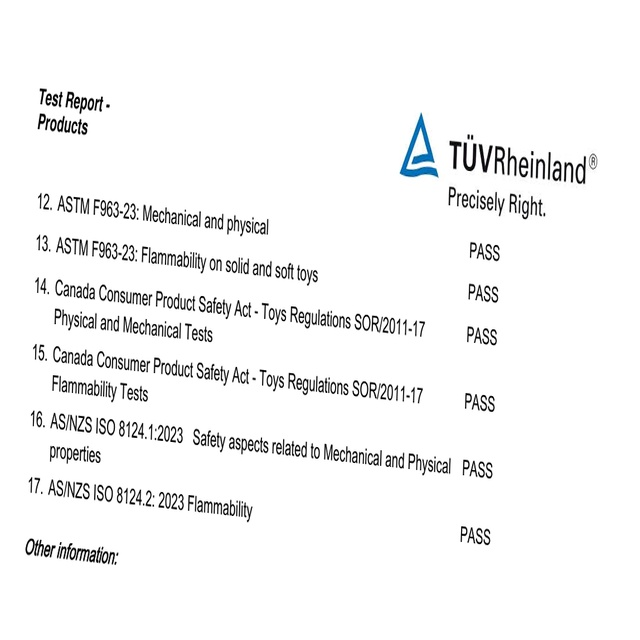tuv_rheinland: (392, 110, 598, 185)
